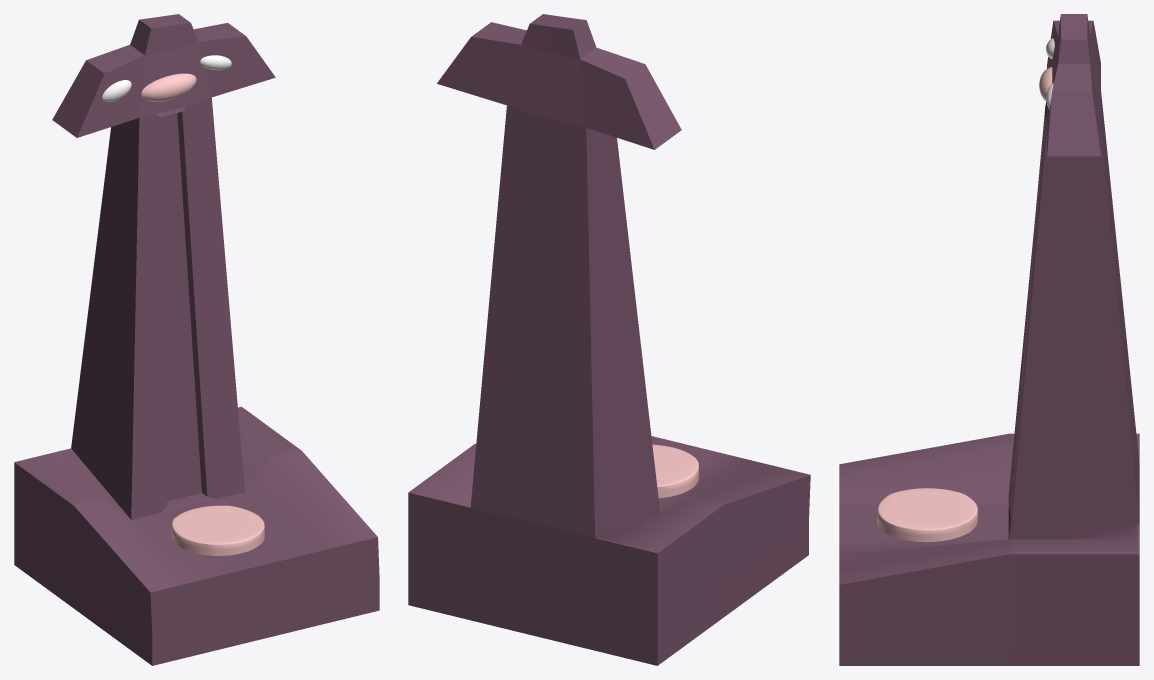
File: wackerBodyObj 1.fbx
3 renders of one model, left to right at view 1: azimuth 30°, elevation 25°; view 2: azimuth 150°, elevation 25°; view 3: azimuth 270°, elevation 25°, orthographic. The views are drawn at different scales.
Visible parts, largest first — view 1: Eye1; view 2: Eye1; view 3: Eye1.
Part boxes in pixels (<box>): Eye1: <box>14,14,379,665</box>; Eye1: <box>408,14,810,665</box>; Eye1: <box>839,14,1139,665</box>.
Bounding box in the file's own units: 0.062 × 0.139 × 0.0646.
